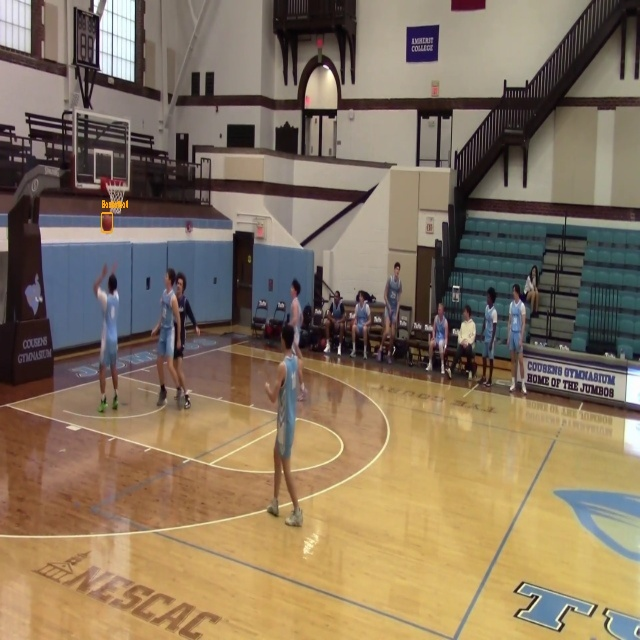Basketball: (102, 213, 112, 232)
